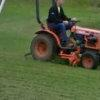Tractor: (29, 8, 100, 76)
